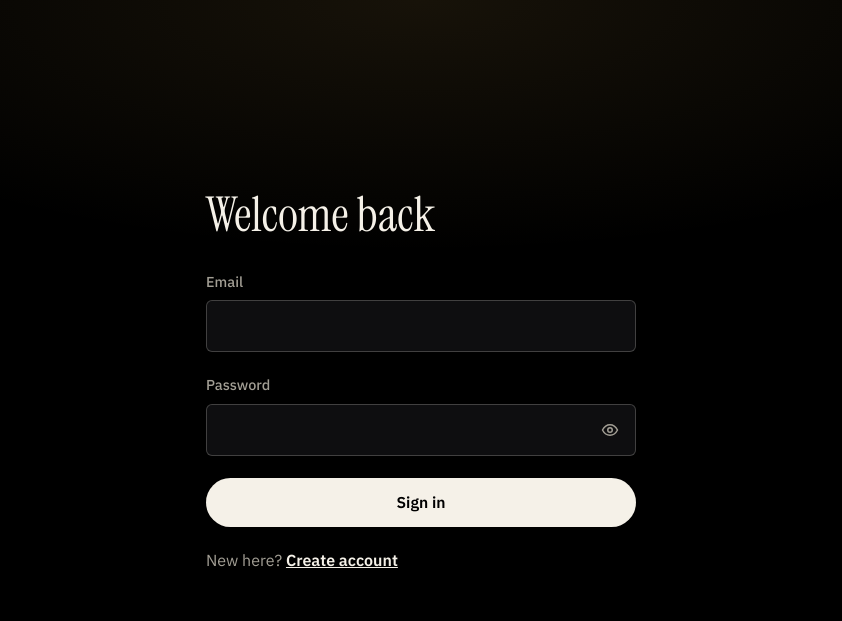
AuthForm › shows the server's generic error on a failed sign-in
In the field labelled "Email": (421, 326) [206,300,636,352], type "aya@example.com"
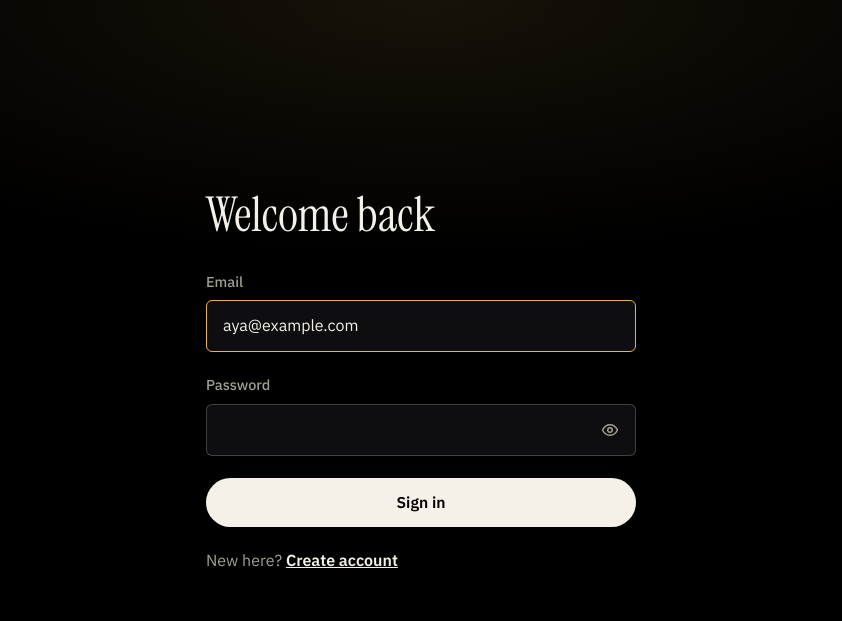
In the password field labelled "Password": (421, 430) [206,404,636,456], type "wrong password"
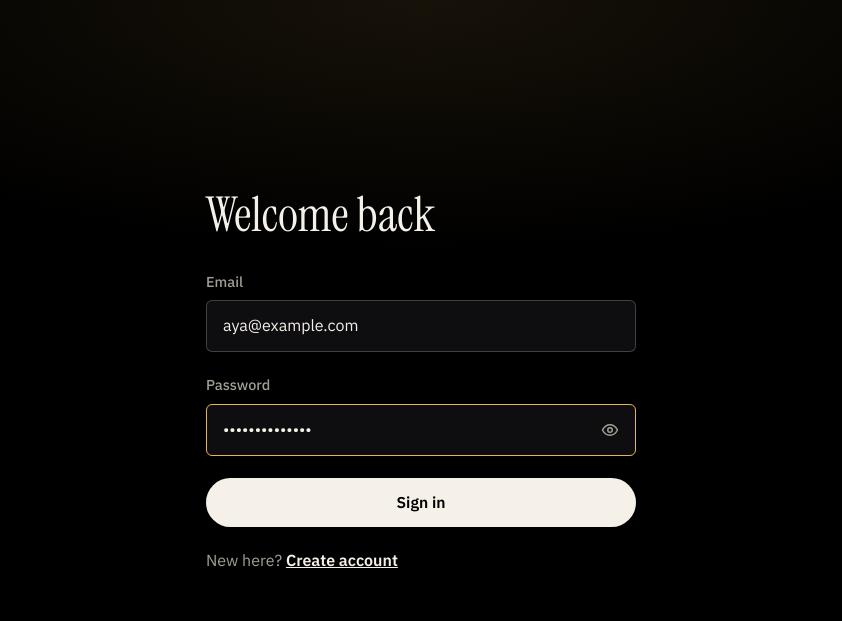
Click the button "Sign in": (421, 503) [206,478,636,527]
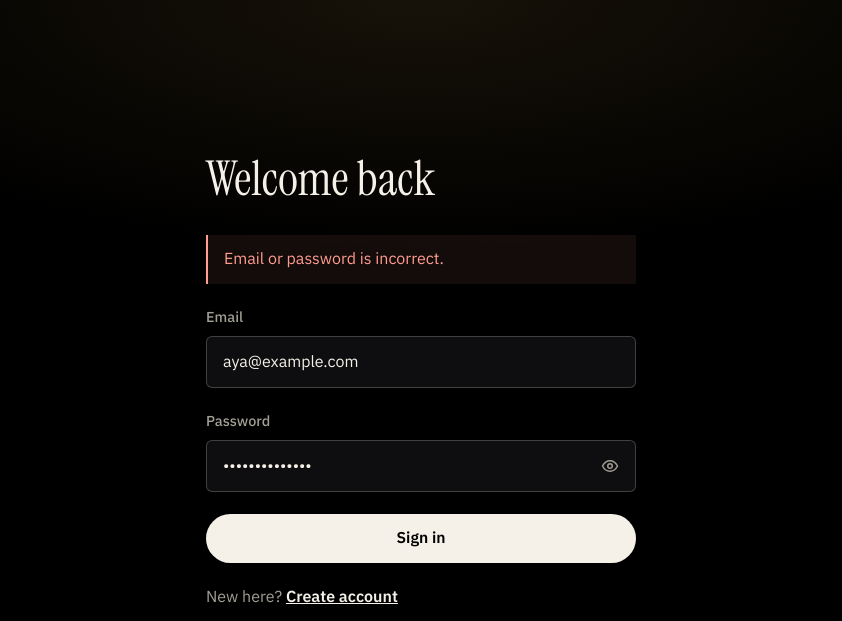
expect the message reads "Email or password is incorrect.": met, box [224,247,444,271]
